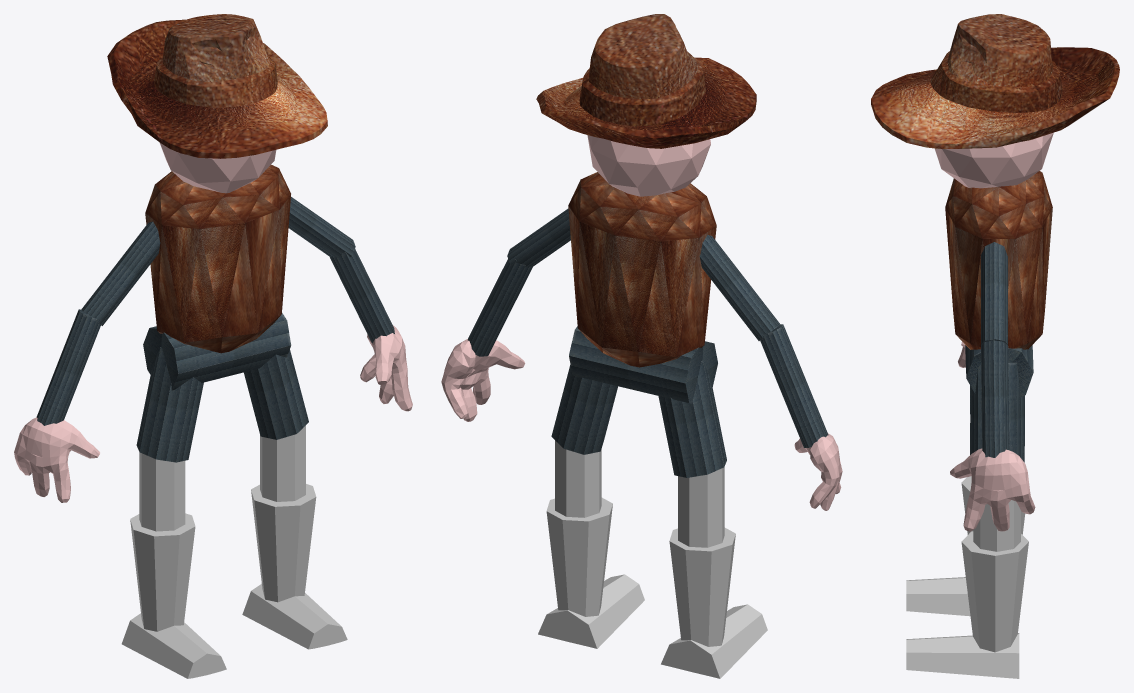
Rendered from cowboy.obj.
3 renders of one model, left to right at view 1: azimuth 30°, elevation 25°; view 2: azimuth 150°, elevation 25°; view 3: azimuth 270°, elevation 25°, orthographic.
Parts seen in each view (by area): view 1: Body, Hat, RightLowerLeg, LeftLowerLeg, RightLowerArm, LeftLowerArm, RightUpperLeg, LeftUpperLeg, Head, RightUpperArm, LeftUpperArm; view 2: Body, Hat, RightLowerLeg, LeftLowerLeg, LeftLowerArm, RightLowerArm, Head, RightUpperLeg, LeftUpperLeg, RightUpperArm, LeftUpperArm; view 3: Hat, Body, LeftLowerLeg, LeftLowerArm, Head, LeftUpperArm, RightLowerLeg, LeftUpperLeg.
Part boxes in pixels (box(x1,y1,x2,y2)): Body: box(143, 164, 291, 390); Hat: box(107, 14, 327, 158); RightLowerLeg: box(121, 452, 226, 678); LeftLowerLeg: box(242, 425, 347, 649); RightLowerArm: box(14, 309, 100, 502); LeftLowerArm: box(330, 245, 412, 411); RightUpperLeg: box(136, 347, 203, 462); LeftUpperLeg: box(243, 349, 308, 439); Head: box(160, 143, 276, 193); RightUpperArm: box(81, 221, 160, 325); LeftUpperArm: box(288, 197, 355, 258); Body: box(568, 172, 717, 403); Hat: box(536, 14, 756, 148); RightLowerLeg: box(661, 467, 767, 678); LeftLowerLeg: box(538, 440, 644, 648); LeftLowerArm: box(441, 258, 533, 421); RightLowerArm: box(760, 324, 842, 510); Head: box(587, 135, 710, 196); RightUpperLeg: box(658, 360, 726, 477); LeftUpperLeg: box(551, 365, 617, 454); RightUpperArm: box(699, 234, 780, 340); LeftUpperArm: box(507, 209, 570, 267); Hat: box(871, 14, 1119, 148); Body: box(945, 171, 1052, 396); LeftLowerLeg: box(906, 500, 1028, 678); LeftLowerArm: box(950, 335, 1035, 531); Head: box(934, 132, 1053, 188); LeftUpperArm: box(981, 242, 1007, 344); RightLowerLeg: box(906, 476, 1025, 616); LeftUpperLeg: box(970, 362, 1024, 462).
Bounding box in the file's own units: 3.82 × 5.84 × 2.16.
